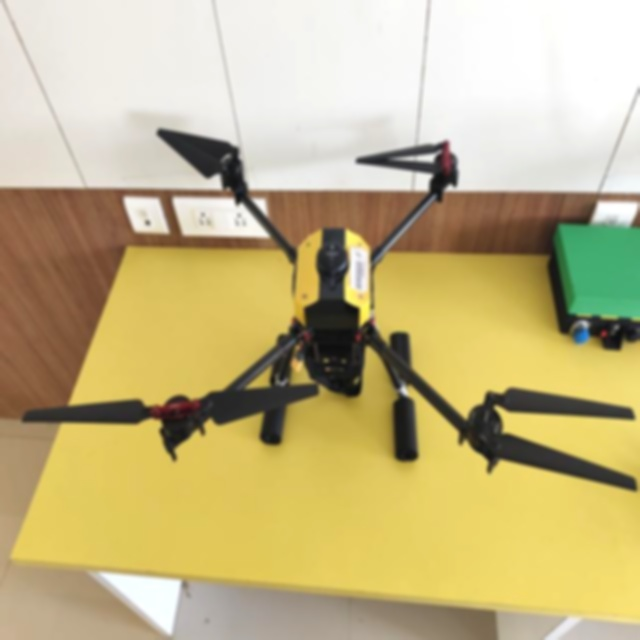quadcopter: (14, 122, 640, 503)
